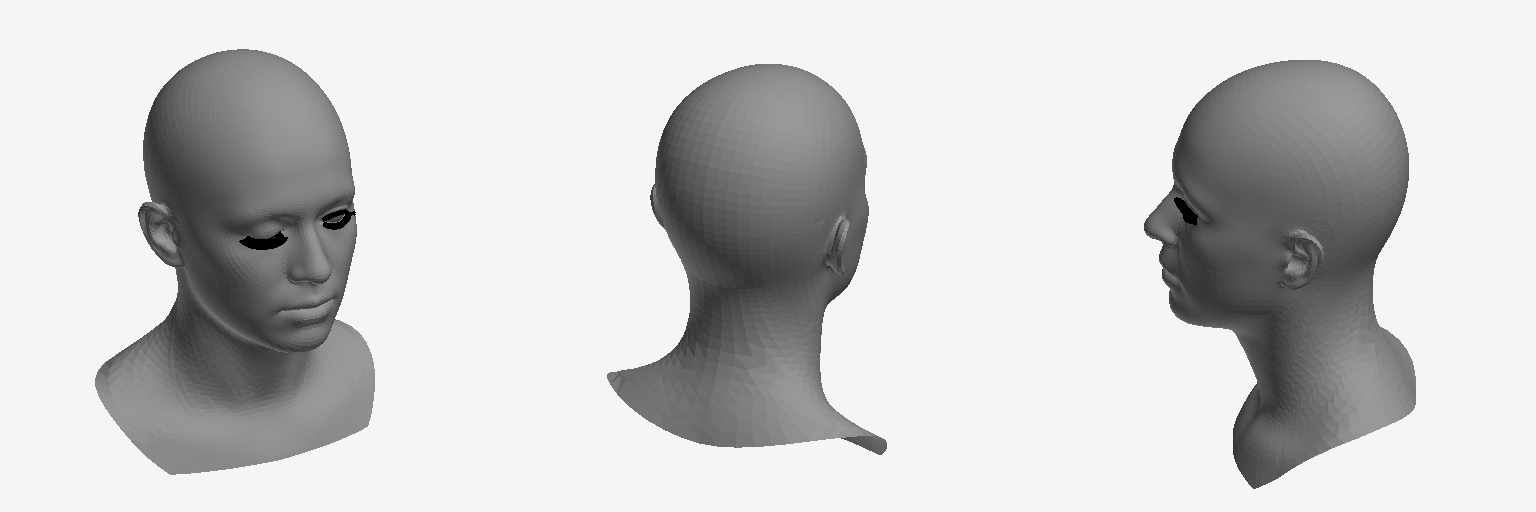
The model's file is eyeBlink_R.obj.
The picture shows the model from 3 angles: view 1: azimuth 30°, elevation 25°; view 2: azimuth 150°, elevation 25°; view 3: azimuth 270°, elevation 25°; orthographic projection.
Size of the model in its own units: 24.83 by 33.81 by 22.32.